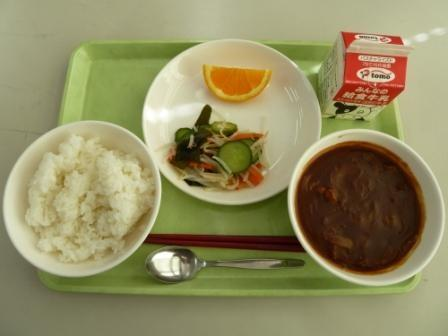Citrus: (191, 51, 284, 109)
Milk: (315, 30, 411, 124)
Rice: (5, 119, 174, 281)
Salad: (157, 110, 285, 195)
soup-plain: (298, 143, 446, 281)
